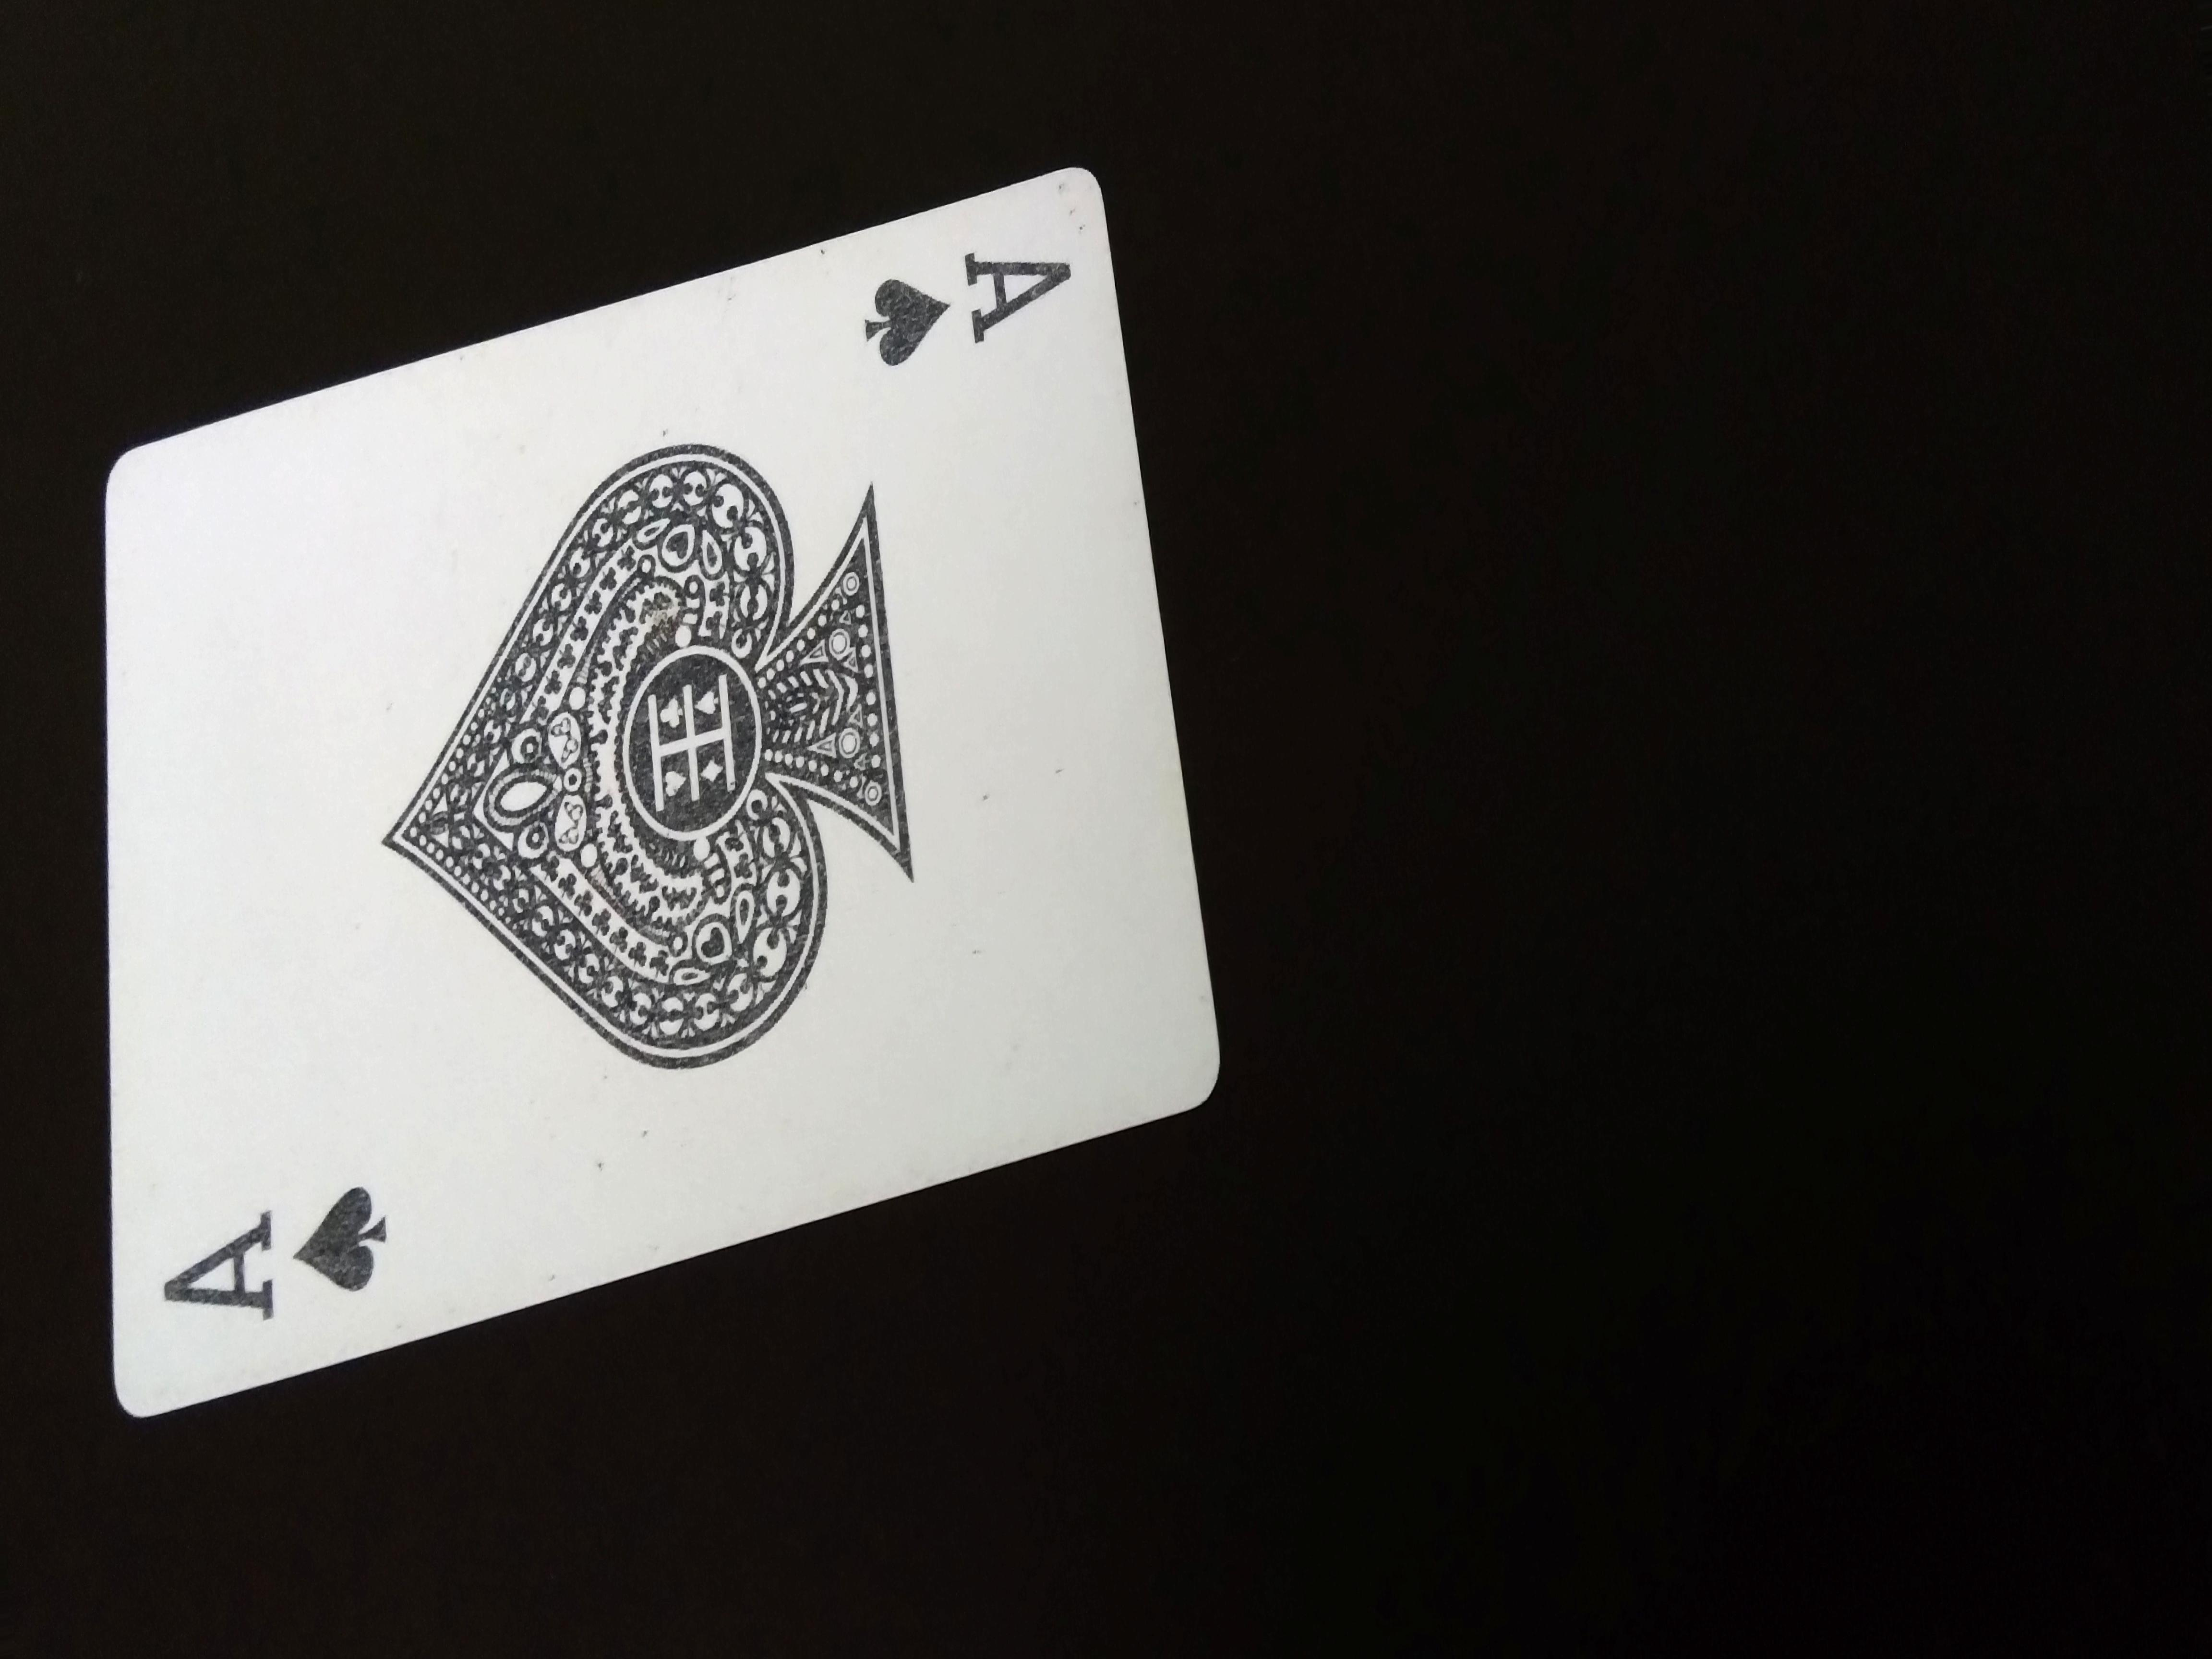AS: (136, 1154, 392, 1338)
